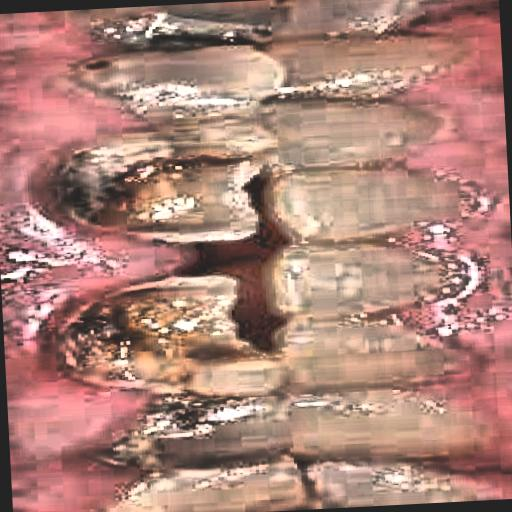Caries: (24, 0, 247, 242), (53, 256, 266, 481)
